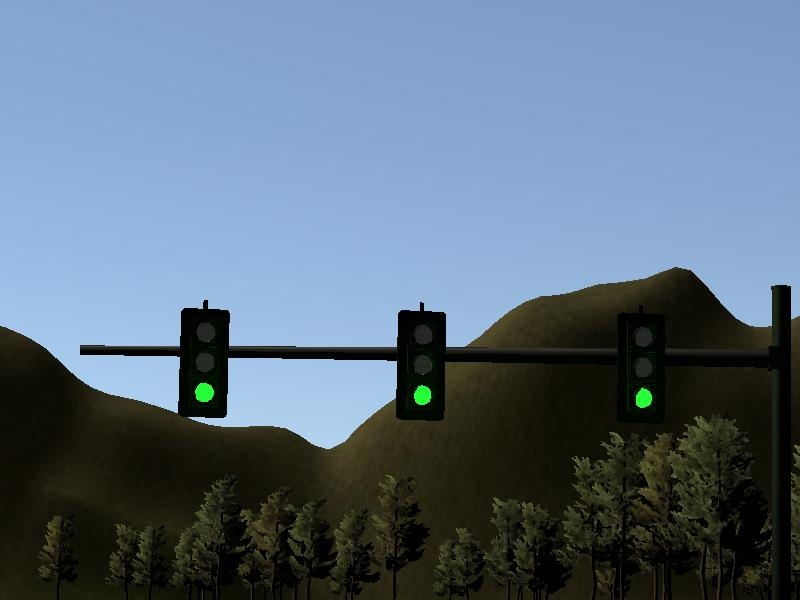green: (176, 299, 236, 426), (394, 304, 449, 430), (610, 307, 667, 427)
